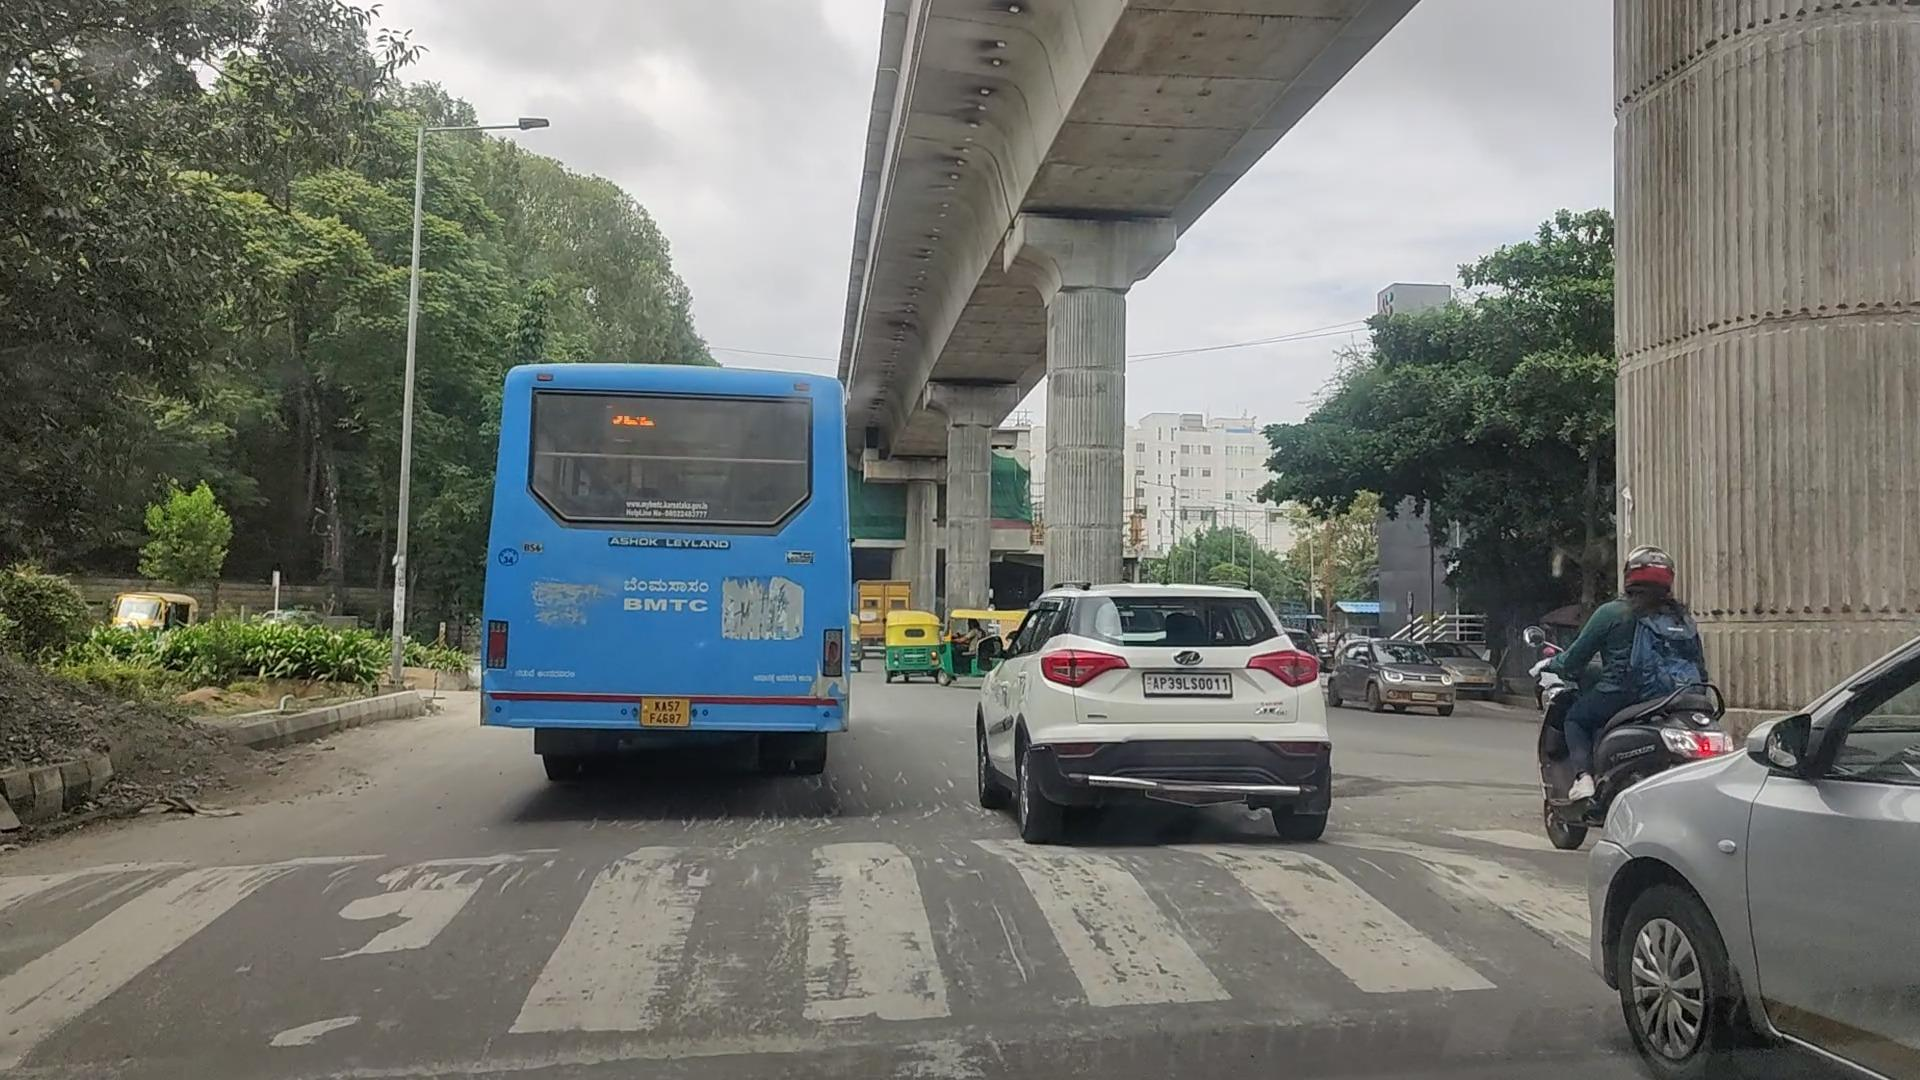LMV: (473, 353, 852, 746), (976, 583, 1336, 827)
SpeedBump: (21, 845, 1527, 1010)
